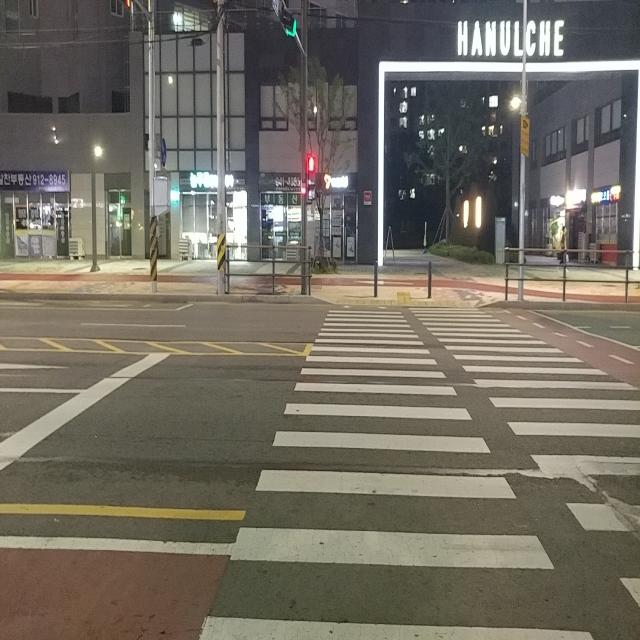빨간불: (304, 156, 318, 194)
횡단보도: (194, 298, 639, 640)
